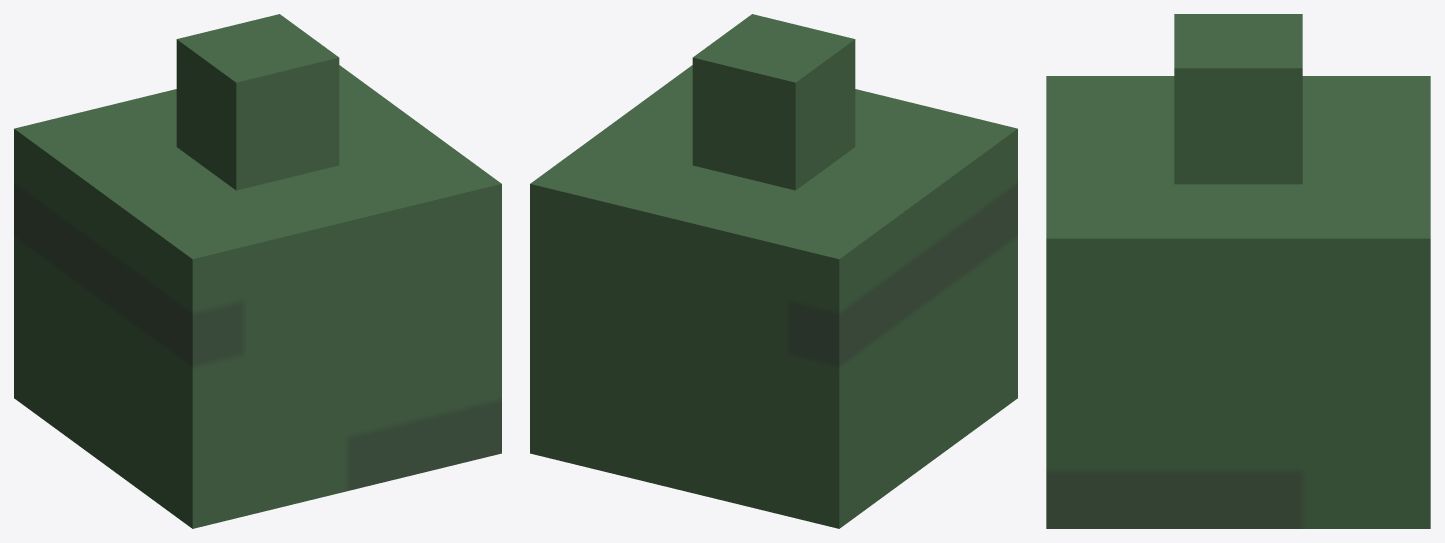
The model's file is Hip083.fbx.
3 renders of one model, left to right at view 1: azimuth 30°, elevation 25°; view 2: azimuth 150°, elevation 25°; view 3: azimuth 270°, elevation 25°, orthographic. The views are drawn at different scales.
Visible parts, largest first — view 1: Hip083; view 2: Hip083; view 3: Hip083.
Boxes of the visible parts, x1=… form: Hip083: x1=14, y1=14, x2=501, y2=528; Hip083: x1=530, y1=14, x2=1017, y2=528; Hip083: x1=1046, y1=14, x2=1430, y2=528.
Size of the model in its own units: 6 by 7 by 6.
